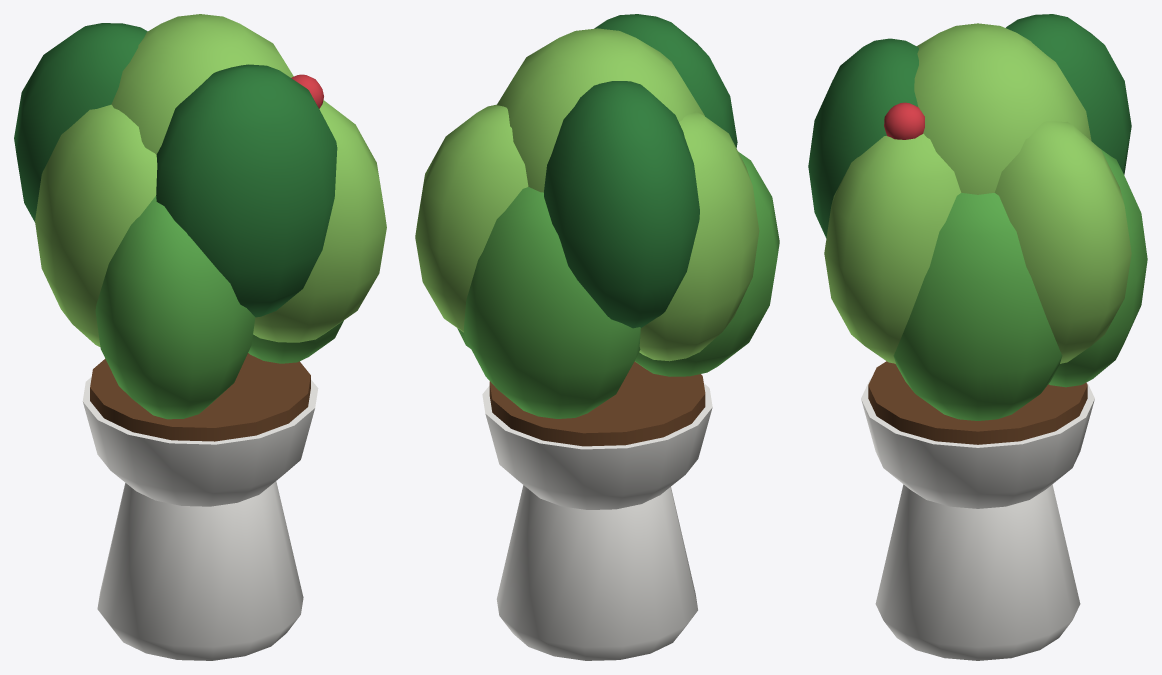
The model's file is plant_pot.glb.
3 views of the same model, side by side, from view 1: azimuth 30°, elevation 25°; view 2: azimuth 150°, elevation 25°; view 3: azimuth 270°, elevation 25° (orthographic). The views are drawn at different scales.
Parts seen in each view (by area): view 1: root; view 2: root; view 3: root.
Boxes of the visible parts, x1,y1,x2,y2 form: root: [14, 14, 386, 660]; root: [415, 14, 779, 660]; root: [808, 14, 1147, 660].
Size of the model in its own units: 0.464 by 0.892 by 0.464.
